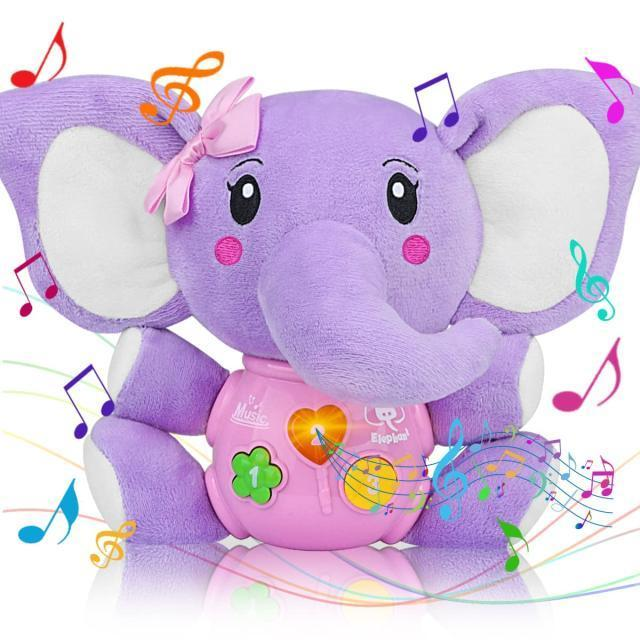soft-toy: (1, 74, 640, 551)
